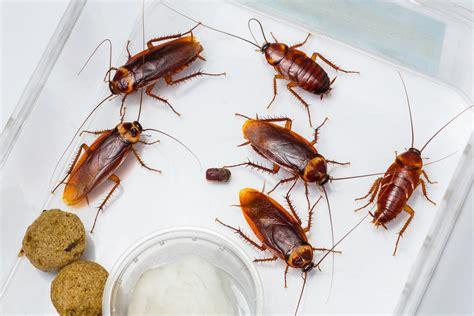cockroach: (230, 184, 322, 278), (240, 110, 335, 193), (62, 118, 146, 208), (108, 34, 205, 103), (256, 35, 339, 102), (369, 146, 428, 231)
